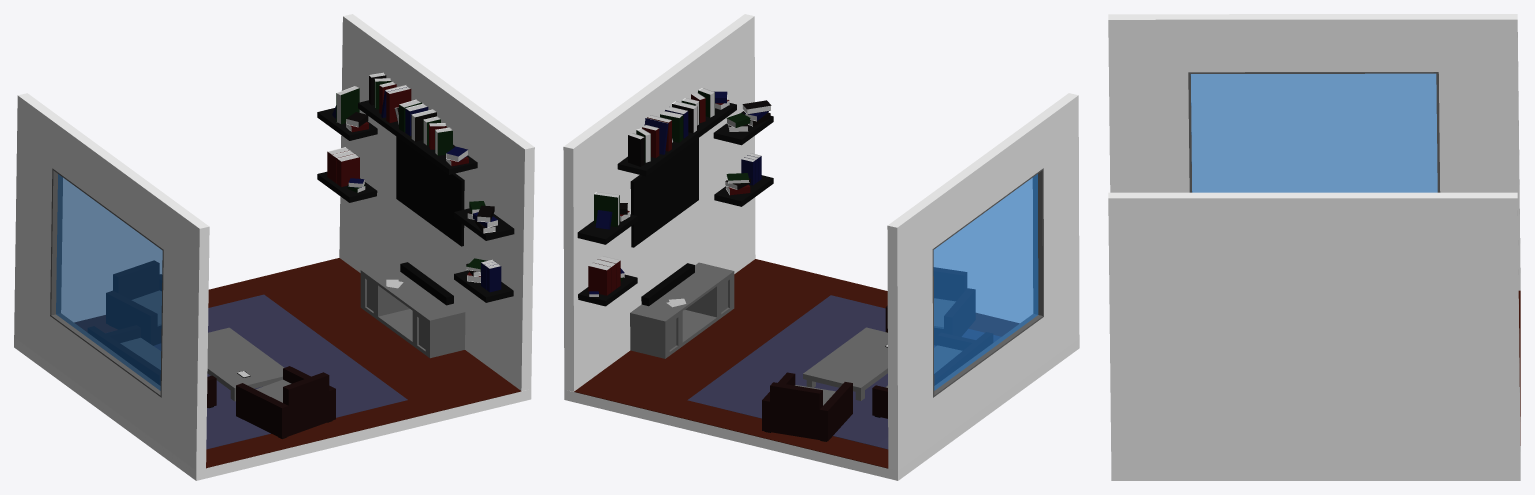
Rendered from ref-model.glb.
The picture shows the model from 3 angles, left to right: view 1: azimuth 30°, elevation 25°; view 2: azimuth 150°, elevation 25°; view 3: azimuth 270°, elevation 25°; orthographic projection. The views are drawn at different scales.
Visible parts, largest first — view 1: Cube (×18), object 4, object 7, object 1, object 6; view 2: Cube (×18), object 4, object 7, object 1, object 6; view 3: object 7, object 4, object 1, object 6, Cube.
Part boxes in pixels (x1,y1,x2,y2): Cube (×18): (50, 100, 521, 468); object 4: (14, 93, 209, 470); object 7: (339, 14, 534, 391); object 1: (56, 174, 162, 390); object 6: (14, 337, 531, 480); Cube (×18): (574, 103, 1043, 468); object 4: (887, 93, 1079, 470); object 7: (563, 14, 755, 391); object 1: (933, 174, 1038, 390); object 6: (564, 338, 1079, 480); object 7: (1108, 192, 1520, 469); object 4: (1108, 14, 1520, 290); object 1: (1190, 73, 1437, 192); object 6: (1111, 469, 1520, 480); Cube: (1188, 72, 1440, 192).
Bounding box in the file's own units: 17.11 × 12.27 × 16.12.
